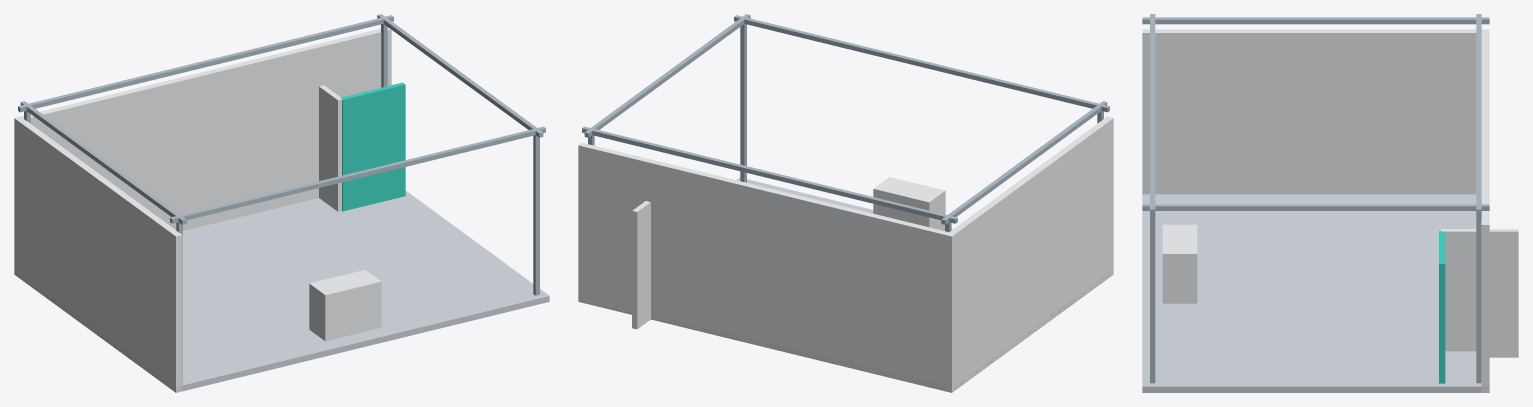
3 views of the same model, side by side, from view 1: azimuth 30°, elevation 25°; view 2: azimuth 150°, elevation 25°; view 3: azimuth 270°, elevation 25° (orthographic). The views are drawn at different scales.
Parts seen in each view (by area): view 1: Exhibition Booth Concept; view 2: Exhibition Booth Concept; view 3: Exhibition Booth Concept.
Part boxes in pixels (x1,y1,x2,y2): Exhibition Booth Concept: (14, 14, 549, 392); Exhibition Booth Concept: (578, 14, 1113, 392); Exhibition Booth Concept: (1142, 14, 1518, 392).
Bounding box in the file's own units: 8 × 3.49 × 6.51.
